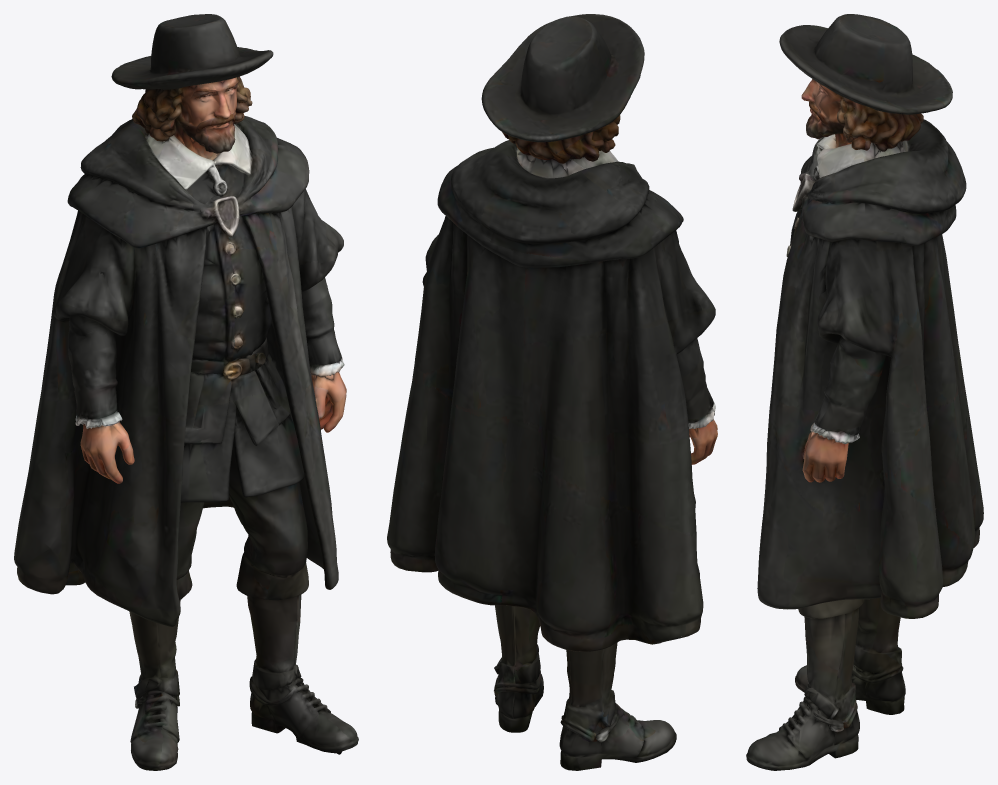
The model's file is magellan.glb.
The picture shows the model from 3 angles, left to right: view 1: azimuth 30°, elevation 25°; view 2: azimuth 150°, elevation 25°; view 3: azimuth 270°, elevation 25°; orthographic projection. The views are drawn at different scales.
Visible parts, largest first — view 1: tripo_node_16cfbe91-e9bb-414a-835f-9ba8ead36419; view 2: tripo_node_16cfbe91-e9bb-414a-835f-9ba8ead36419; view 3: tripo_node_16cfbe91-e9bb-414a-835f-9ba8ead36419.
Boxes of the visible parts, bbox=[...] form: tripo_node_16cfbe91-e9bb-414a-835f-9ba8ead36419: bbox=[14, 14, 358, 770]; tripo_node_16cfbe91-e9bb-414a-835f-9ba8ead36419: bbox=[387, 14, 717, 770]; tripo_node_16cfbe91-e9bb-414a-835f-9ba8ead36419: bbox=[746, 14, 983, 770].
Size of the model in its own units: 0.4379 by 0.9796 by 0.301.
1 material, 1 textured.
